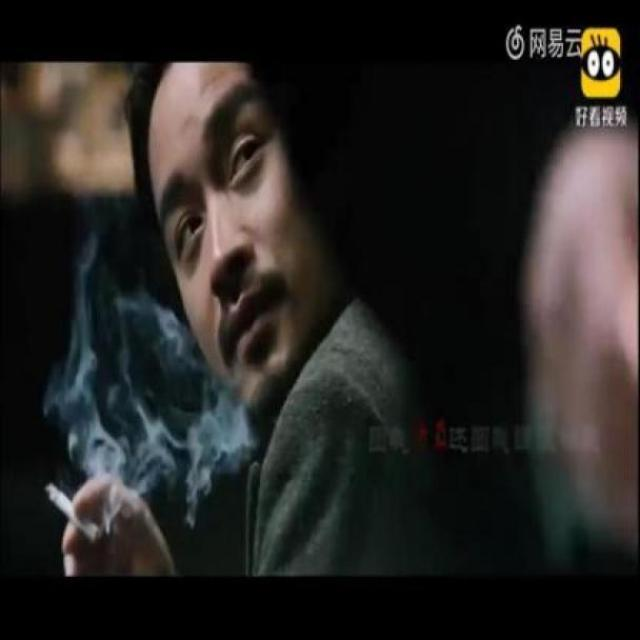rokok: (37, 478, 101, 542)
